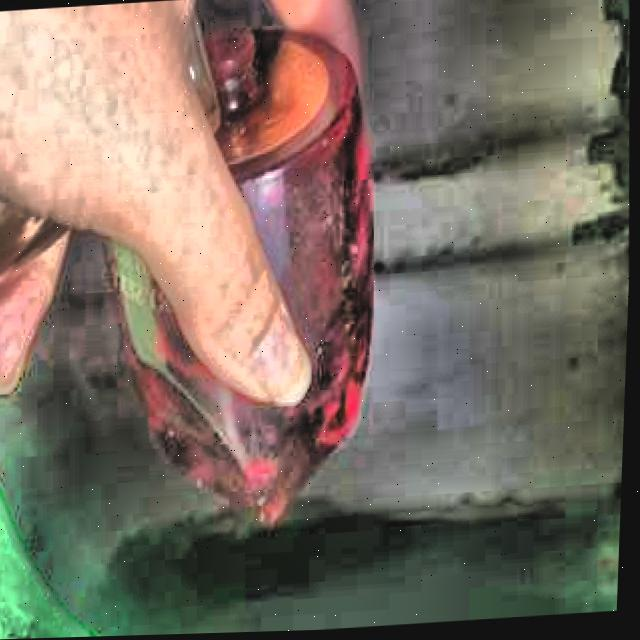glass: (117, 19, 373, 520)
